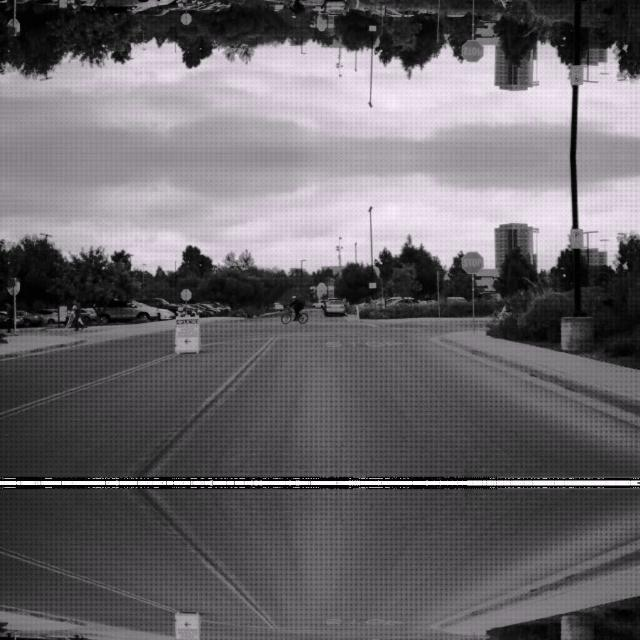stop: (461, 250, 484, 272), (461, 40, 484, 62)
